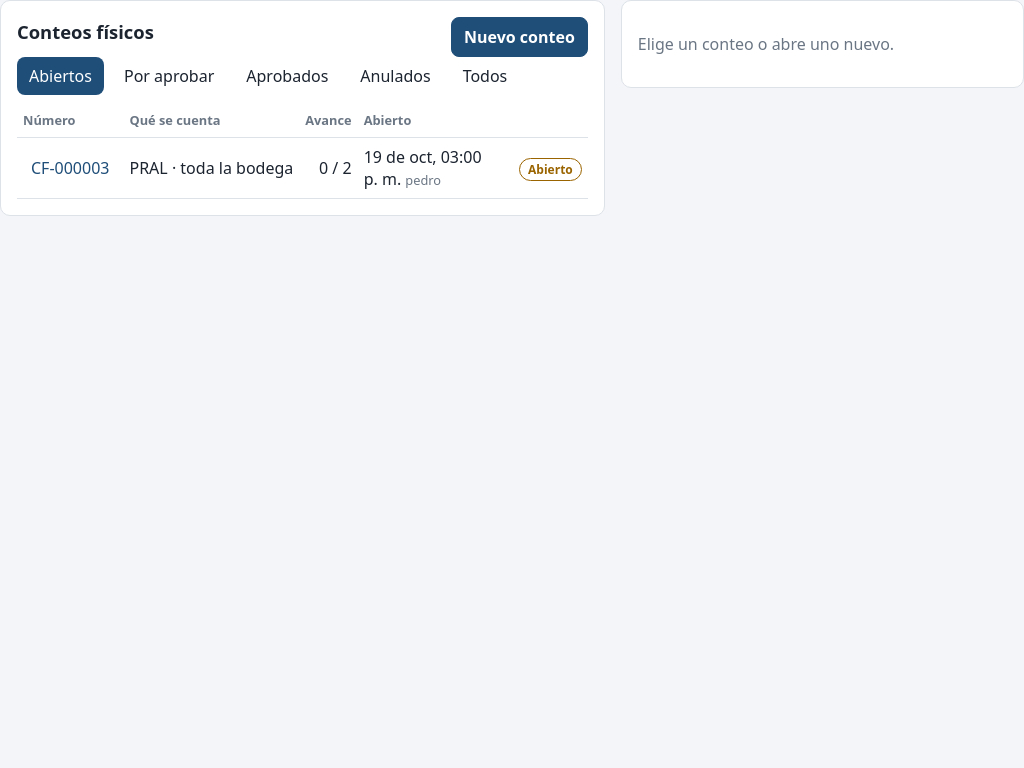
Scenario: pantalla Conteos › cuenta a ciegas: escanea el rollo, escribe y Enter guarda en esa unidad
Click the button "CF-000003" at (70, 168), box [23,153,118,183]
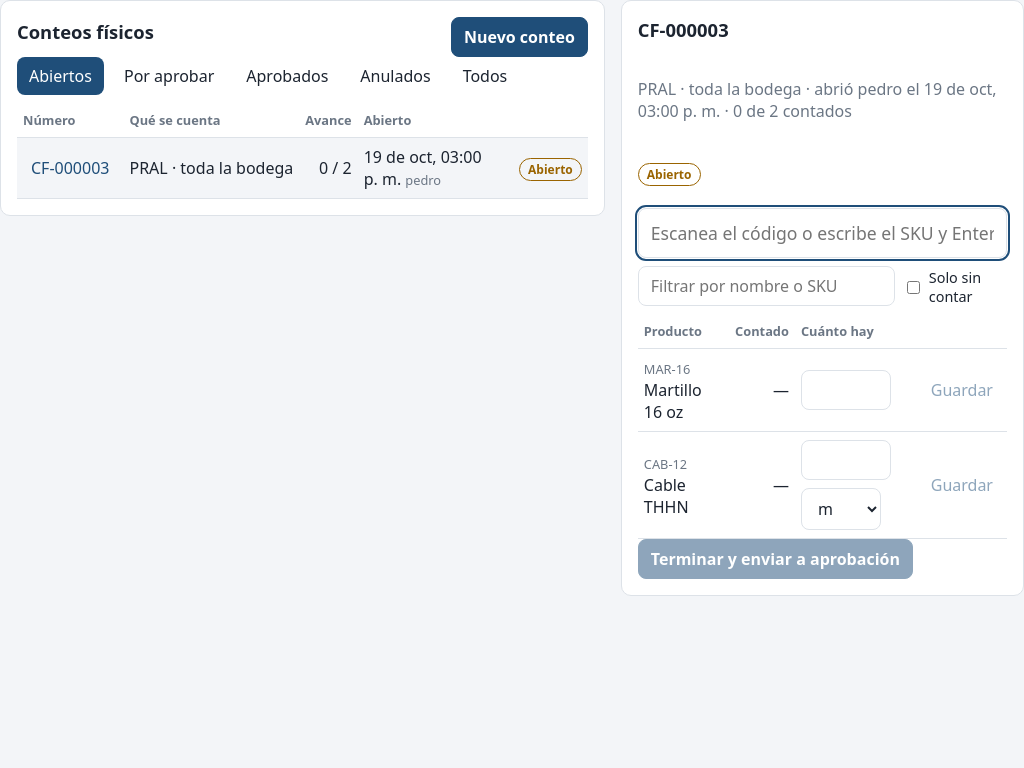
Type "770ROLLO" into the field named "Escanear producto" at (822, 233), box [638,208,1007,258]
Then press Enter
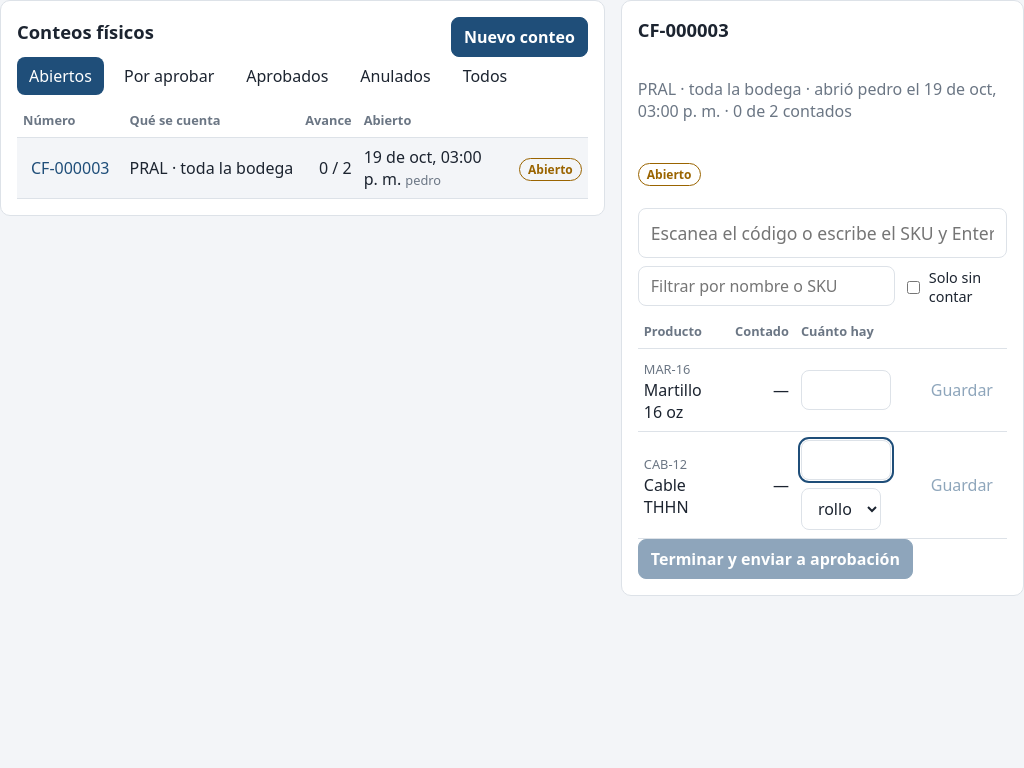
Result: the dropdown named "Unidad de Cable THHN" shows "rollo" at [801,488,881,530]
Type "2" into the field named "Cantidad de Cable THHN" at (846, 460), box [801,440,891,480]
Then press Enter
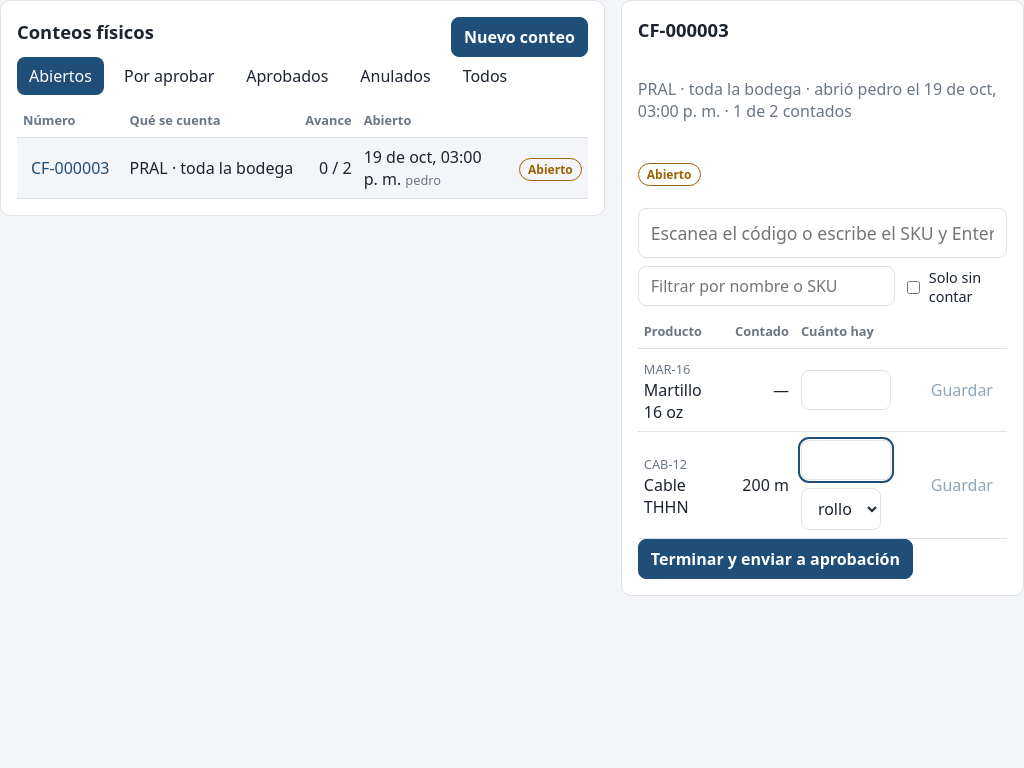
Result: the text "200 m" is shown at [729,432,795,538]
Result: the text "1 de 2 contados" is shown at [638,78,1007,122]
Type "999" into the field named "Escanear producto" at (822, 233), box [638,208,1007,258]
Then press Enter
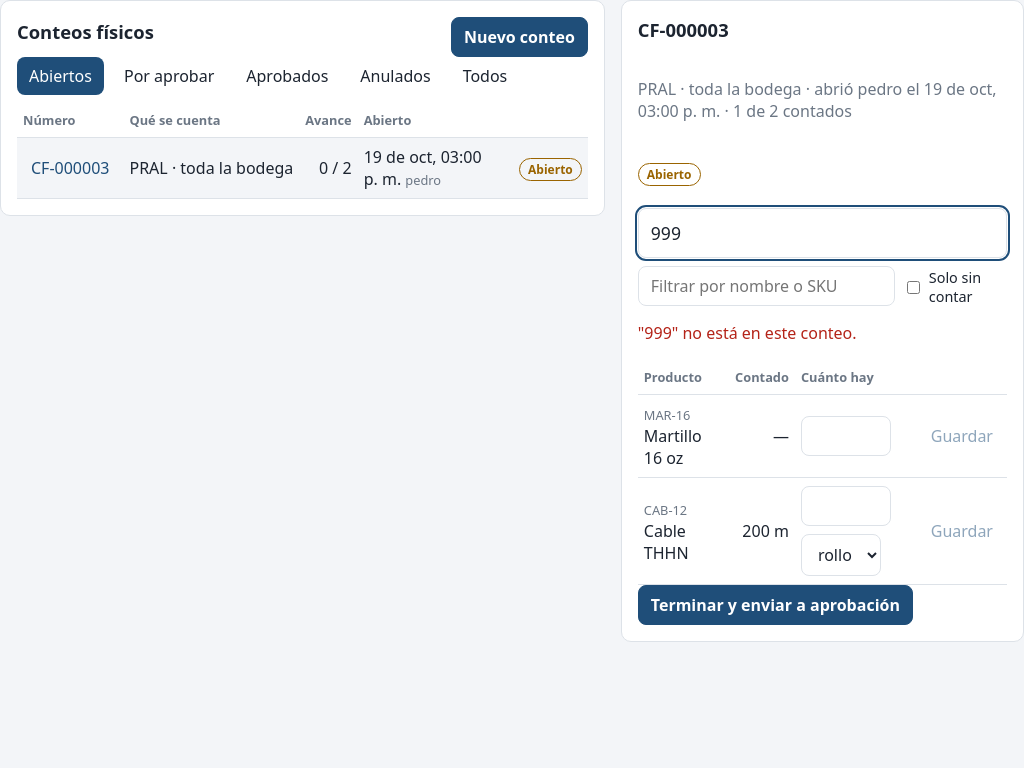
Result: the message shows "\"999\" no está en este conteo" at [638,322,857,344]
